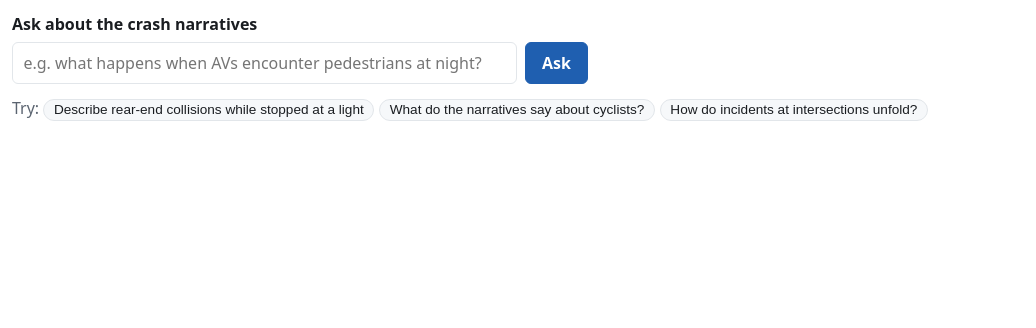
RagAsk › submits a question and renders the cited answer + retrieved narratives
Step 1. Type "pedestrians at night" into the field labelled "Ask about the crash narratives" → point(265, 63), box [12,42,517,84]
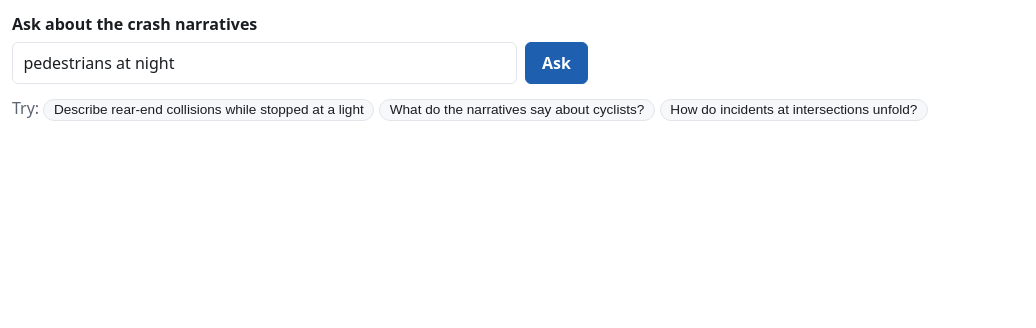
Step 2. Submit the form, box [12,13,588,84]
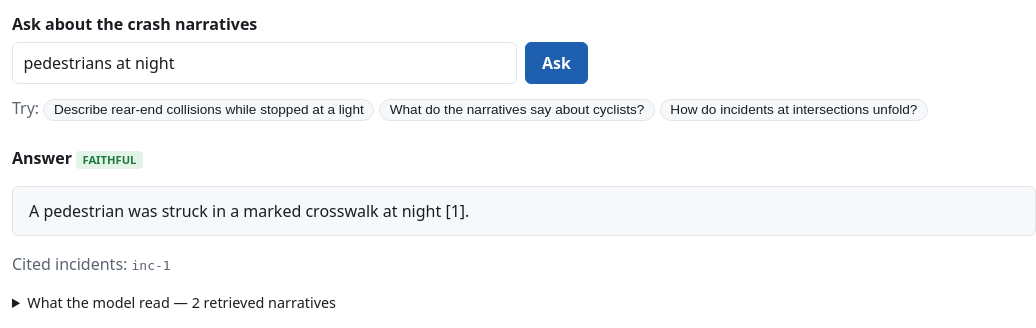
Now the text with class "rag-answer" shows "marked crosswalk", box [29,200,469,222]
Now the text "faithful" is shown, box [76,151,143,169]
Now the text "inc-1" is shown, box [132,258,171,273]
